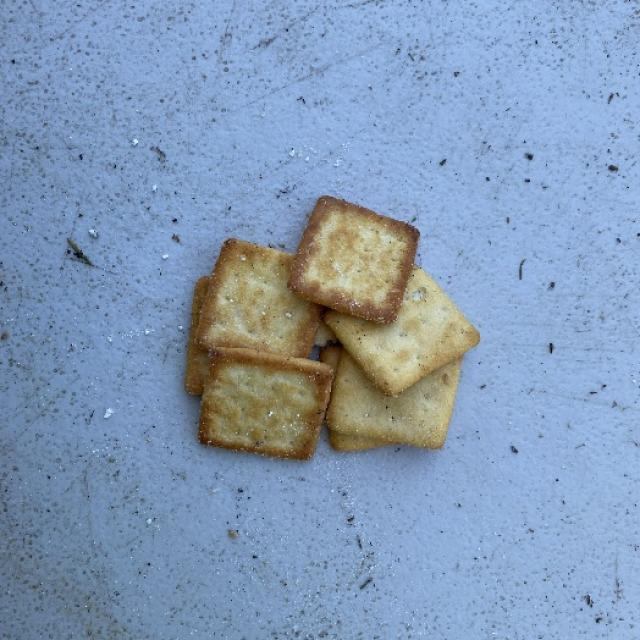organik: (329, 260, 474, 383), (301, 192, 409, 319), (204, 343, 324, 457), (328, 344, 461, 444), (195, 248, 312, 360)
